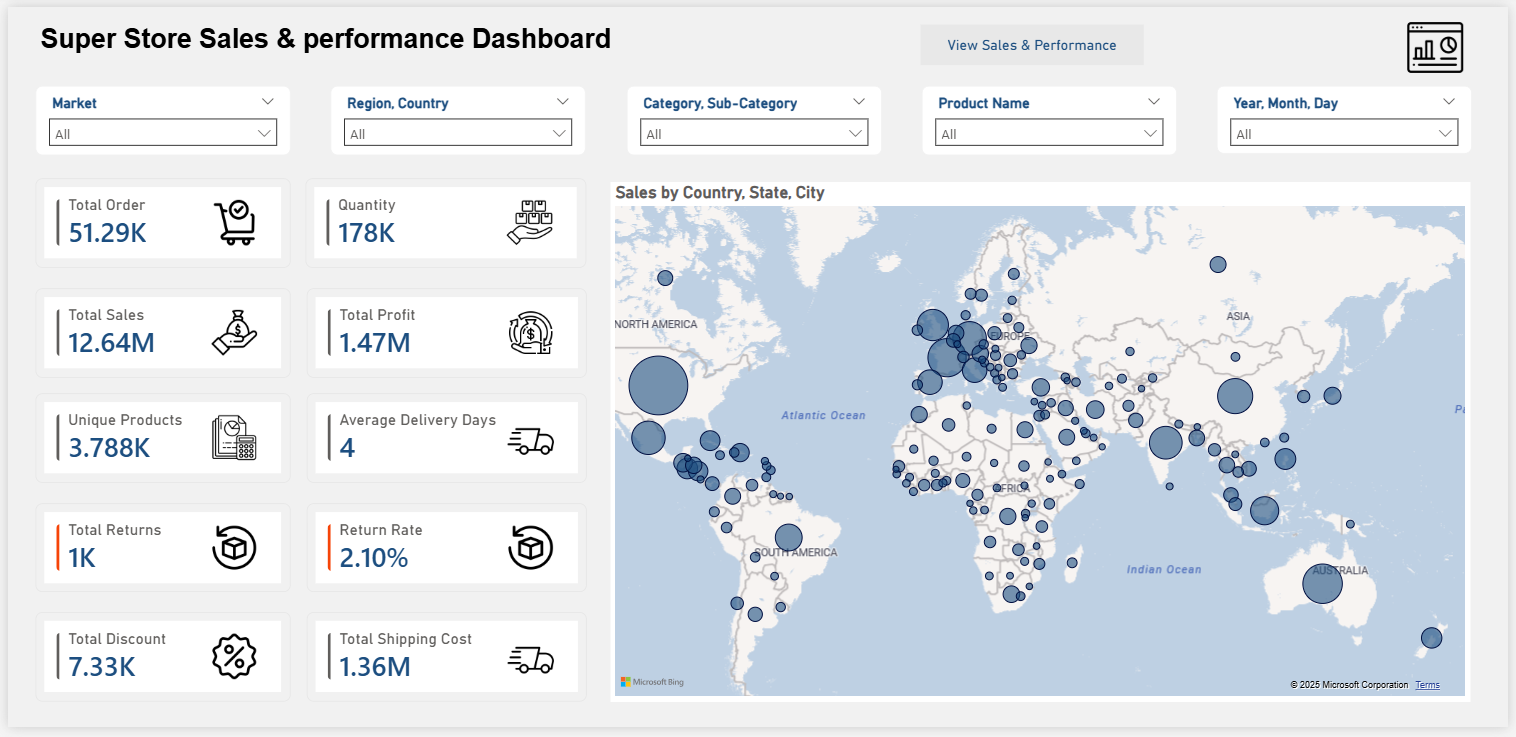

The page's visual inventory and layout, read from the dashboard file:
{"tool":"powerbi","page":{"name":"Summary Page","canvas":[1500,720],"ordinal":0},"visuals":[{"type":"textbox","box":[28,12,587.2,46.2],"z":0},{"type":"image","box":[1391,12,71.6,56.2],"z":1000},{"type":"slicer","fields":{"Values":["Orders.Market"]},"box":[28,79,255.1,69.4],"z":2000},{"type":"slicer","fields":{"Values":["Orders.Region","Orders.Country"]},"box":[323.1,79,255.1,69.4],"z":3000},{"type":"slicer","fields":{"Values":["Orders.Category","Orders.Sub-Category"]},"box":[618.2,79,255.1,69.4],"z":4000},{"type":"slicer","fields":{"Values":["Orders.Product Name"]},"box":[913.3,79,255.1,69.4],"z":5000},{"type":"slicer","fields":{"Values":["Calendar.Year","Calendar.MonthSort","Calendar.Day"]},"box":[1208.3,79,255,68.3],"z":6000},{"type":"cardVisual","fields":{"Data":["CountNonNull(Orders.Order ID)"]},"box":[28,171,255,89.7],"z":7000},{"type":"cardVisual","fields":{"Data":["Sum(Orders.Quantity)"]},"box":[297.8,171.3,280.9,89.9],"z":8000},{"type":"cardVisual","fields":{"Data":["Sum(Orders.Sales)"]},"box":[28,281.6,255,89.7],"z":9000},{"type":"cardVisual","fields":{"Data":["Sum(Orders.Profit)"]},"box":[298.3,281.6,280,89.7],"z":10000},{"type":"cardVisual","fields":{"Data":["Count(Orders.Product ID)"]},"box":[28,385.9,255,89.7],"z":11000},{"type":"cardVisual","fields":{"Data":["Orders.Average Delivery Days"]},"box":[298.3,385.9,280,89.7],"z":12000},{"type":"cardVisual","fields":{"Data":["Returns.Total Returns"]},"box":[28,496.4,255,89],"z":13000},{"type":"cardVisual","fields":{"Data":["Returns.Return Rate"]},"box":[298.3,496.4,280,89],"z":14000},{"type":"cardVisual","fields":{"Data":["Sum(Orders.Discount)"]},"box":[28,604.8,255,89.7],"z":15000},{"type":"cardVisual","fields":{"Data":["Sum(Orders.Shipping Cost)"]},"box":[298.3,604.8,280,89.7],"z":16000},{"type":"map","title":"Sales by Country, State, City","fields":{"Category":["Orders.Country","Orders.State","Orders.City"],"Size":["Sum(Orders.Sales)"]},"box":[602.5,175.6,859.6,519.7],"z":17000},{"type":"actionButton","box":[913,16.9,223.2,40.6],"z":18000}]}

Visuals, with their boxes in screenshot pixels (x1, y1, x2, y2), scaled from the page's 1500x720 canvas onto the 1516x737 screenshot:
textbox: bbox=[28, 12, 622, 60]
image: bbox=[1406, 12, 1478, 70]
slicer - Orders.Market: bbox=[28, 81, 286, 152]
slicer - Orders.Region x Orders.Country: bbox=[327, 81, 584, 152]
slicer - Orders.Category x Orders.Sub-Category: bbox=[625, 81, 883, 152]
slicer - Orders.Product Name: bbox=[923, 81, 1181, 152]
slicer - Calendar.Year x Calendar.MonthSort: bbox=[1221, 81, 1479, 151]
cardVisual - CountNonNull(Orders.Order ID): bbox=[28, 175, 286, 267]
cardVisual - Sum(Orders.Quantity): bbox=[301, 175, 585, 267]
cardVisual - Sum(Orders.Sales): bbox=[28, 288, 286, 380]
cardVisual - Sum(Orders.Profit): bbox=[301, 288, 584, 380]
cardVisual - Count(Orders.Product ID): bbox=[28, 395, 286, 487]
cardVisual - Orders.Average Delivery Days: bbox=[301, 395, 584, 487]
cardVisual - Returns.Total Returns: bbox=[28, 508, 286, 599]
cardVisual - Returns.Return Rate: bbox=[301, 508, 584, 599]
cardVisual - Sum(Orders.Discount): bbox=[28, 619, 286, 711]
cardVisual - Sum(Orders.Shipping Cost): bbox=[301, 619, 584, 711]
"Sales by Country, State, City" map: bbox=[609, 180, 1478, 712]
actionButton: bbox=[923, 17, 1148, 59]
